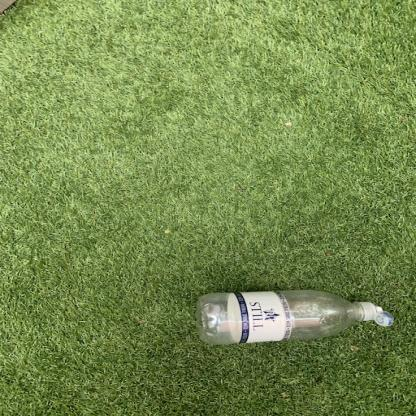trash: (191, 289, 397, 348)
